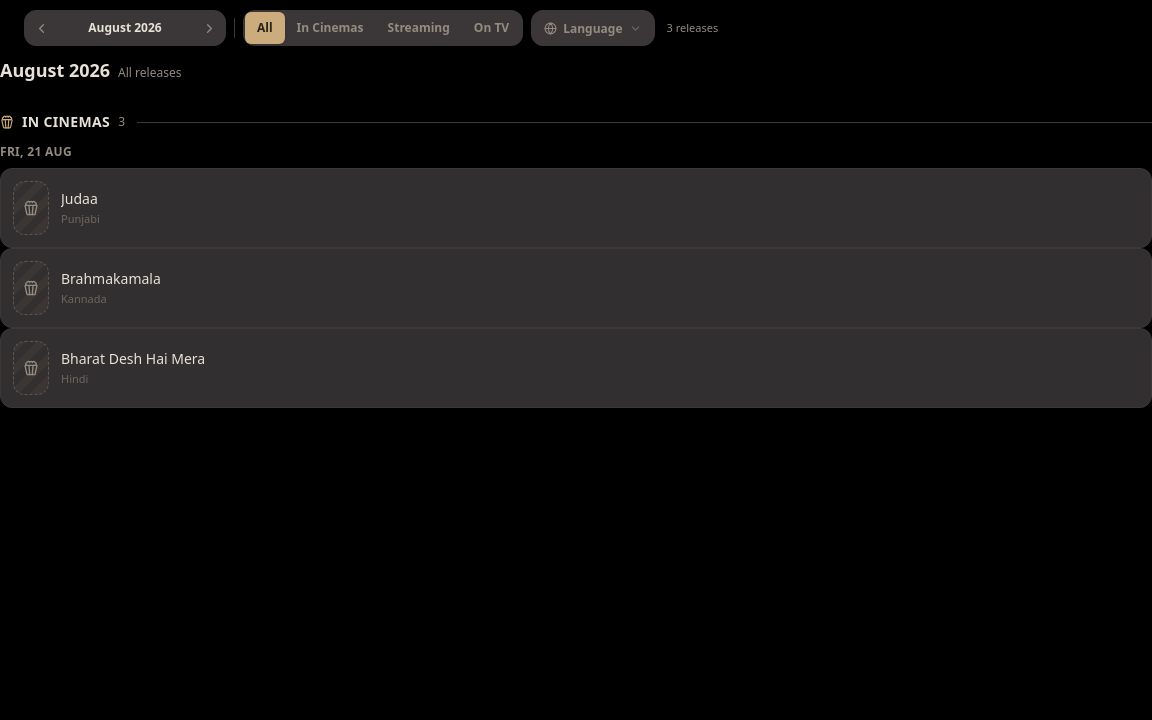
it: Calendar language display and filter › narrows results when a language is picked, and the URL records it
The width and height of the screenshot is (1152, 720).
Check: the text "Judaa" is shown, box [61,189,98,208]
Check: the text "Brahmakamala" is shown, box [61,269,161,288]
Click the button "Language" at (593, 28), box [532,11,654,45]
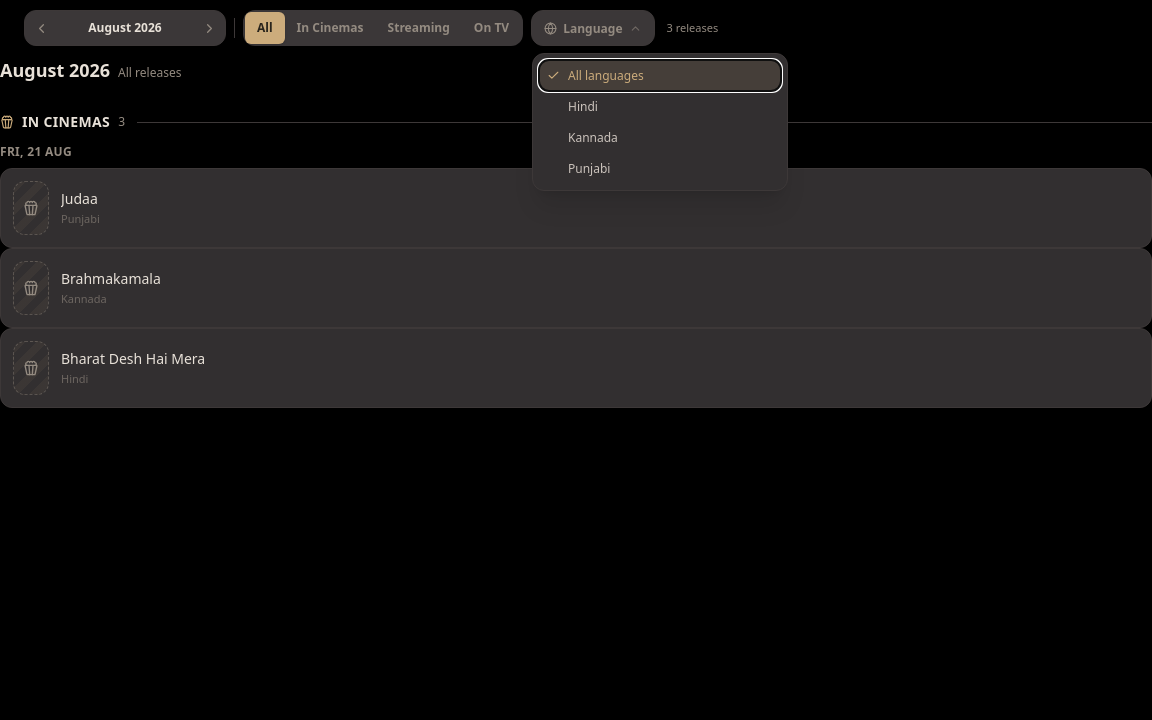
Click the button "Punjabi" at (660, 168), box [539,153,781,184]
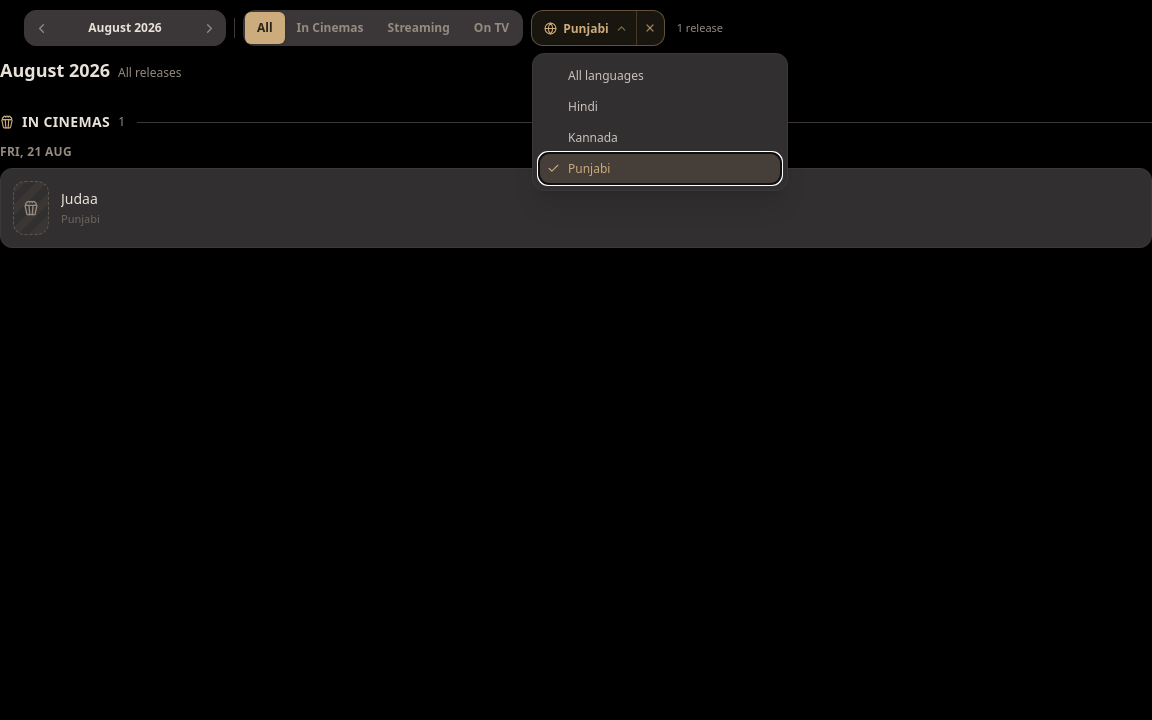
Check: the text "Judaa" is shown, box [61,189,98,208]
Check: the link "Brahmakamala" is gone
